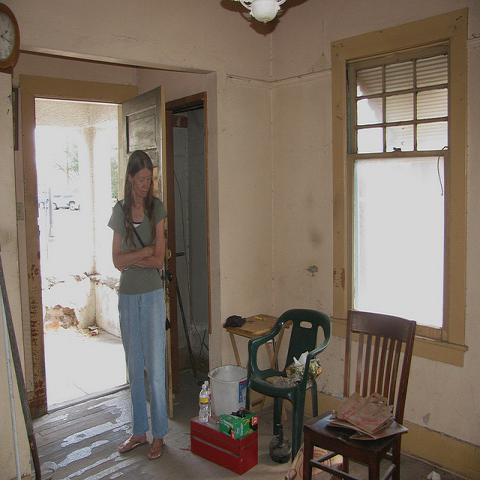car: (53, 195, 78, 210)
